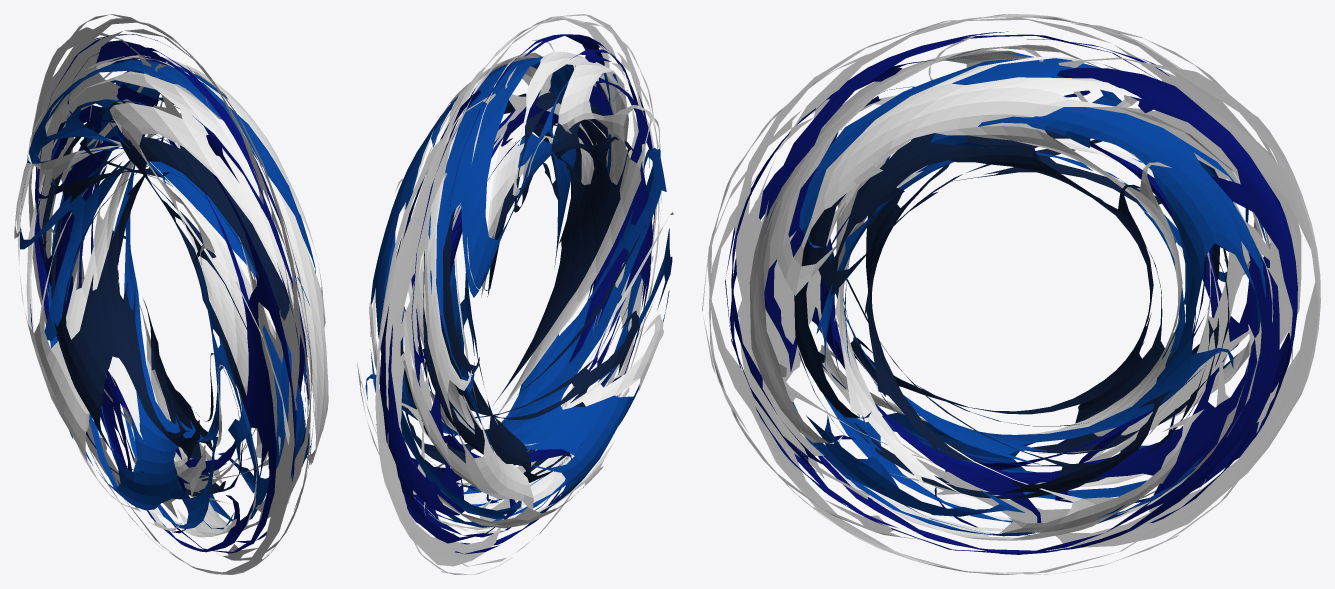
File: Wheel1.obj
The picture shows the model from 3 angles, left to right: view 1: azimuth 30°, elevation 25°; view 2: azimuth 150°, elevation 25°; view 3: azimuth 270°, elevation 25°; orthographic projection. The views are drawn at different scales.
Visible parts, largest first — view 1: E2, E4, E3, E1, Spin1; view 2: E4, E2, E3, Spin1, E1; view 3: Spin1, E2, E1, E4, E3.
Boxes of the visible parts, x1,y1,x2,y2 form: E2: (14, 55, 328, 537); E4: (20, 59, 315, 529); E3: (41, 96, 301, 496); E1: (34, 34, 308, 553); Spin1: (28, 14, 314, 574); E4: (365, 56, 672, 527); E2: (357, 51, 673, 533); E3: (400, 92, 646, 491); Spin1: (375, 14, 661, 574); E1: (380, 34, 655, 554); Spin1: (702, 14, 1320, 574); E2: (749, 44, 1273, 540); E1: (725, 31, 1297, 554); E4: (762, 52, 1269, 536); E3: (794, 130, 1229, 498).
Bounding box in the file's own units: 2.31 × 10.28 × 10.28.
